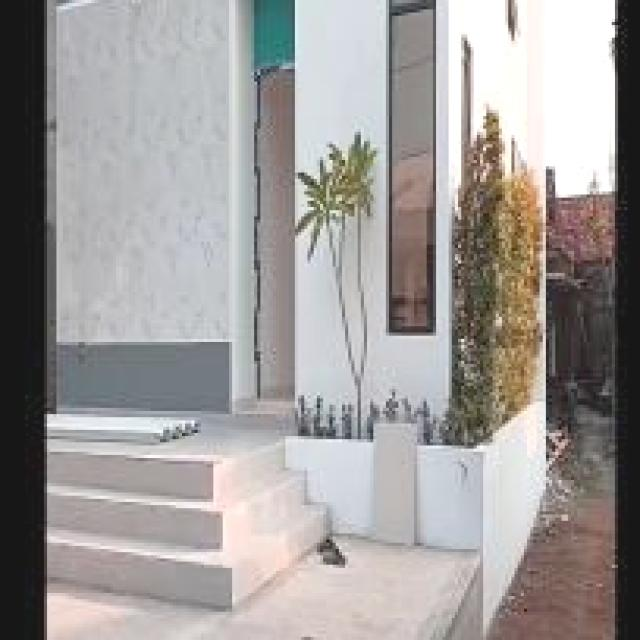upstair: (45, 434, 221, 638)
